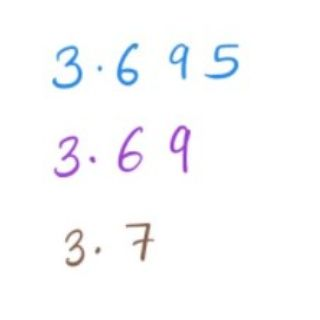.: (88, 153, 98, 164), (94, 244, 103, 256), (95, 64, 104, 73)
3: (47, 43, 88, 90)
5: (201, 40, 242, 81)
6: (117, 123, 150, 176)
7: (122, 215, 157, 265)
9: (168, 121, 194, 180), (168, 38, 190, 80)
